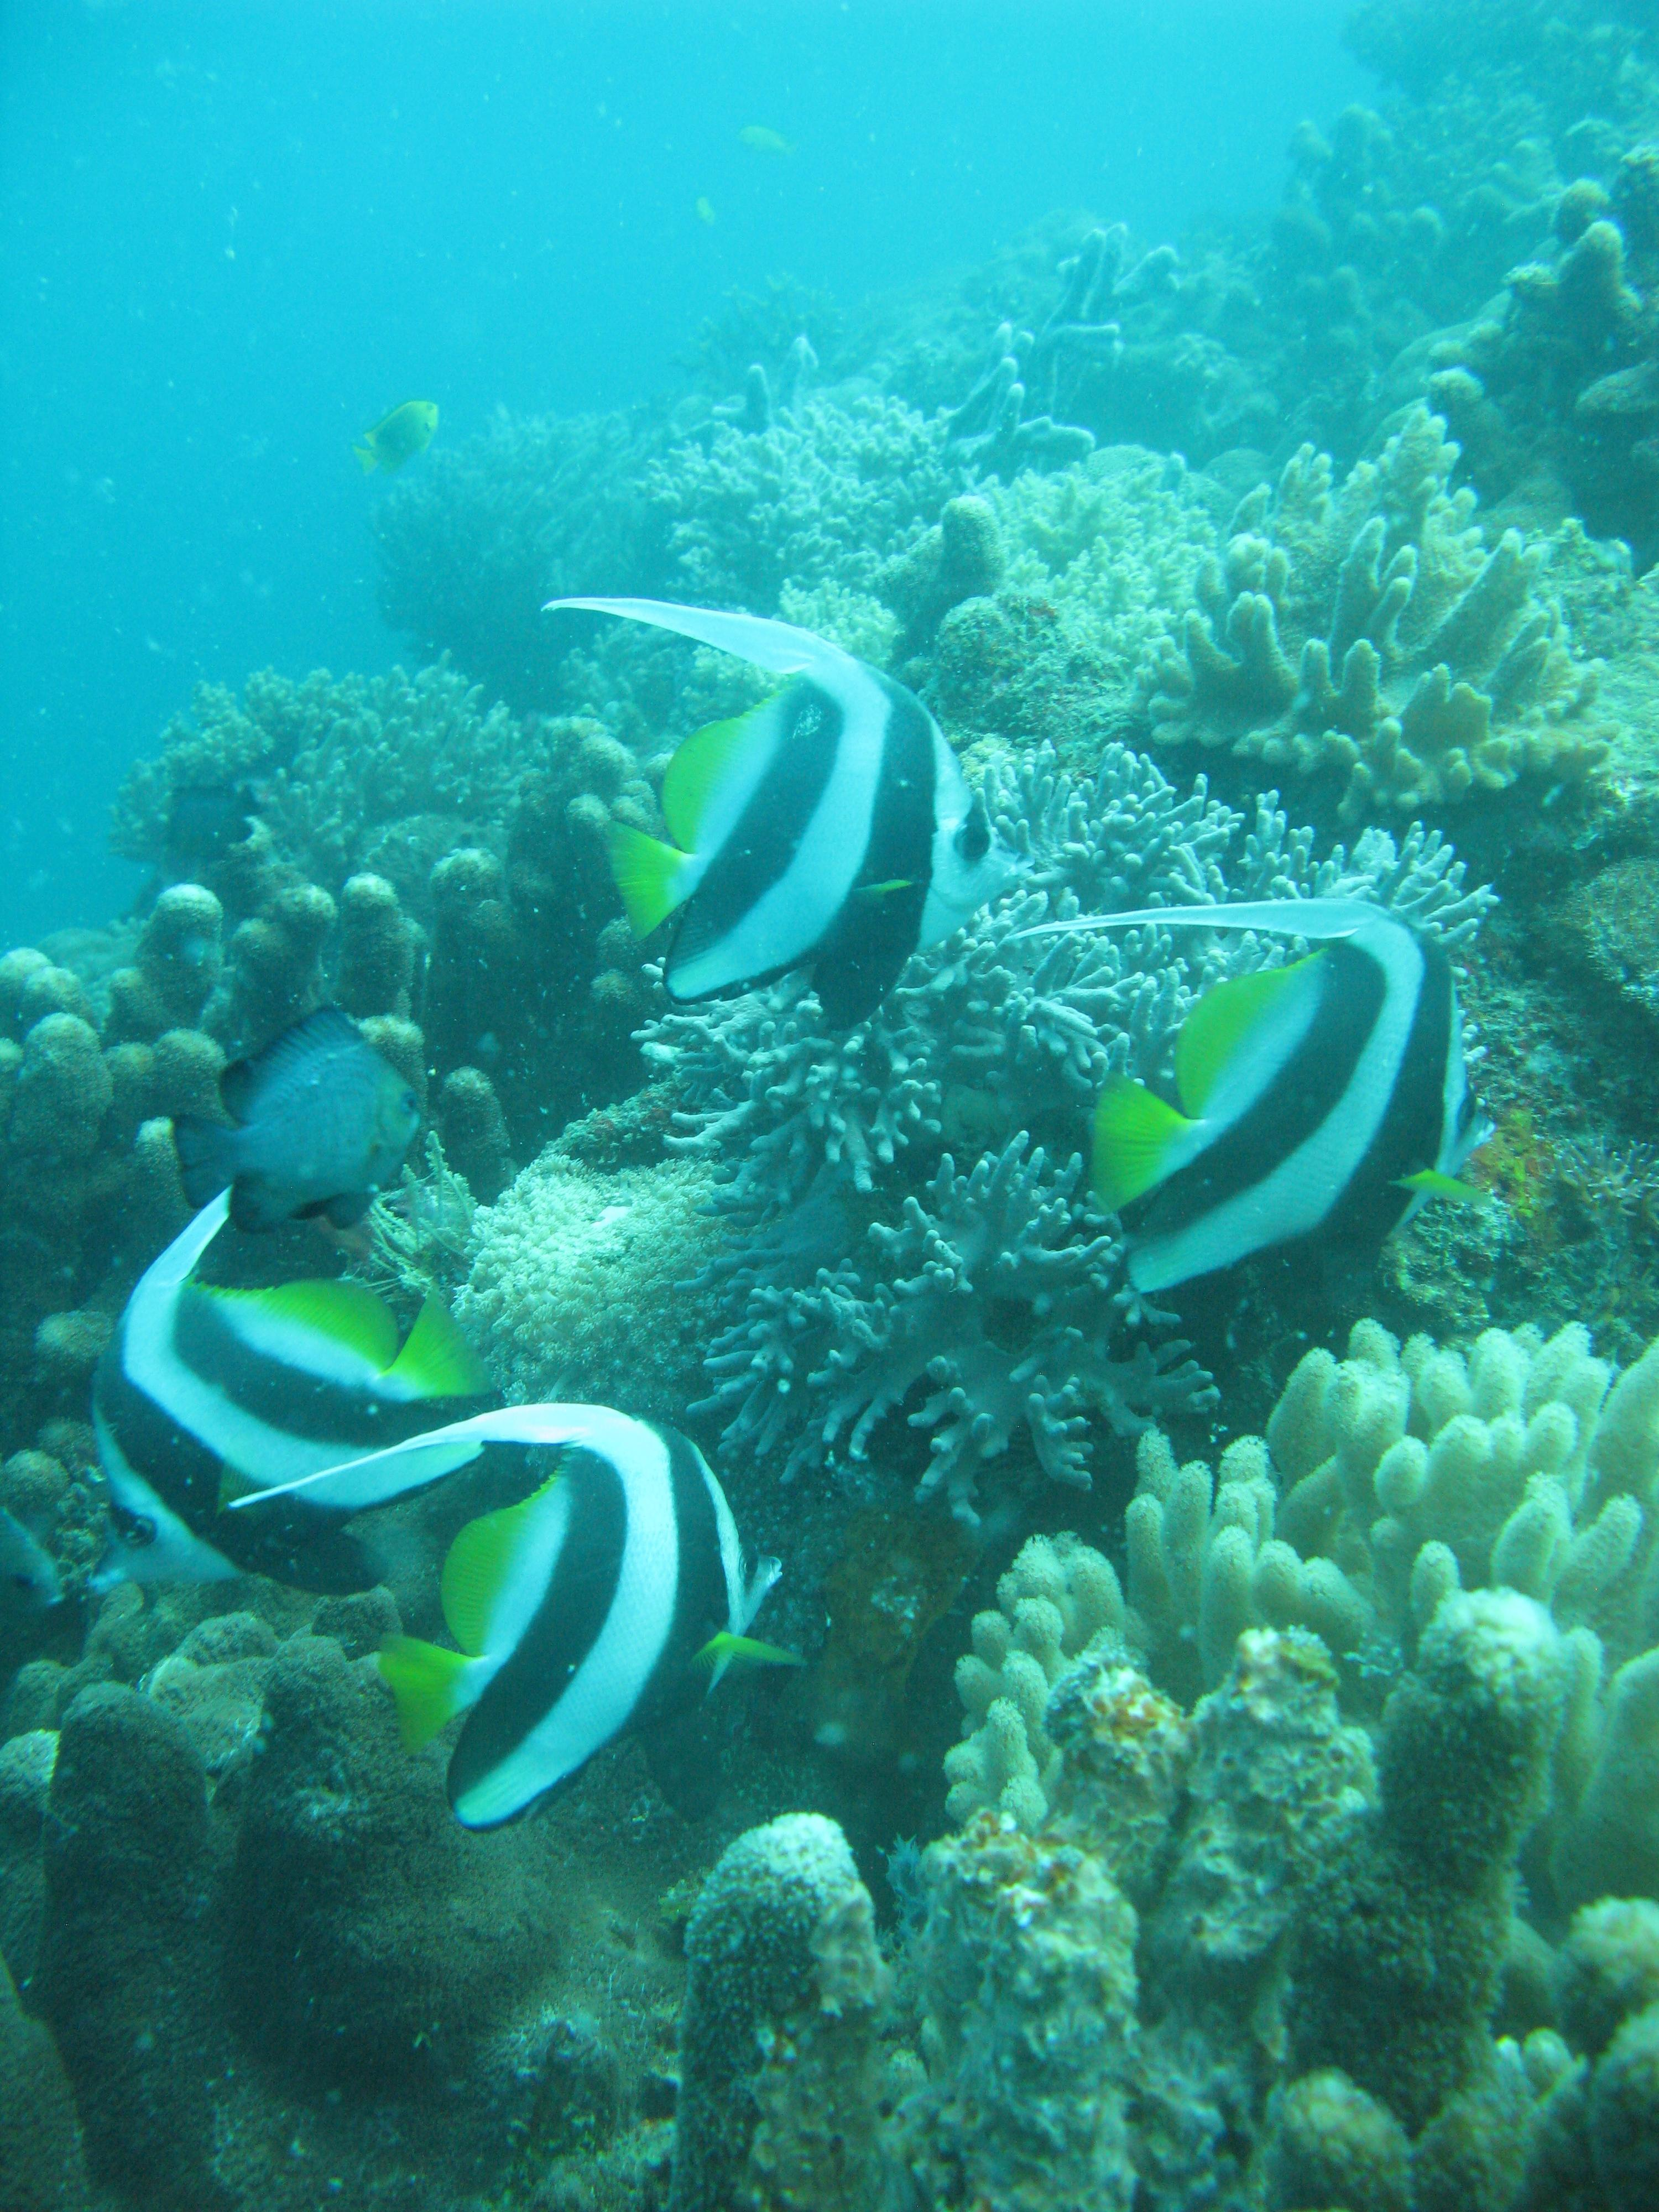Heniochus diphreutes: (211, 1397, 819, 1867), (969, 859, 1488, 1402), (526, 549, 1075, 1031), (77, 1183, 523, 1602)
